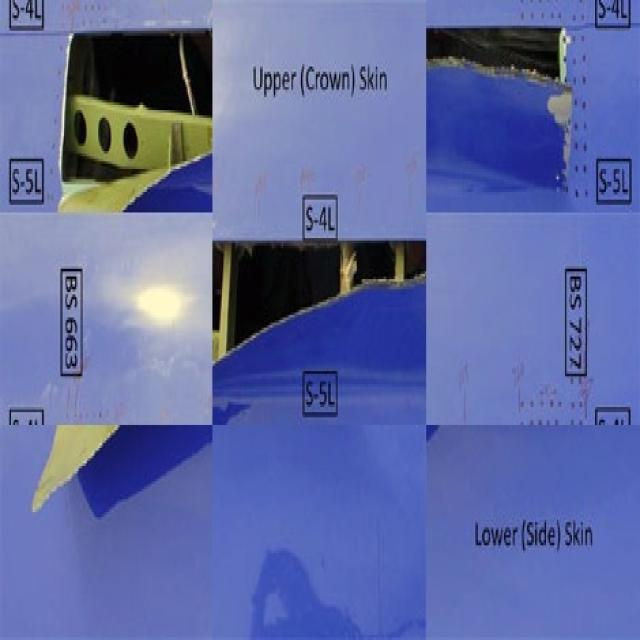crack: (213, 237, 430, 365), (59, 27, 214, 206), (426, 25, 583, 109)
